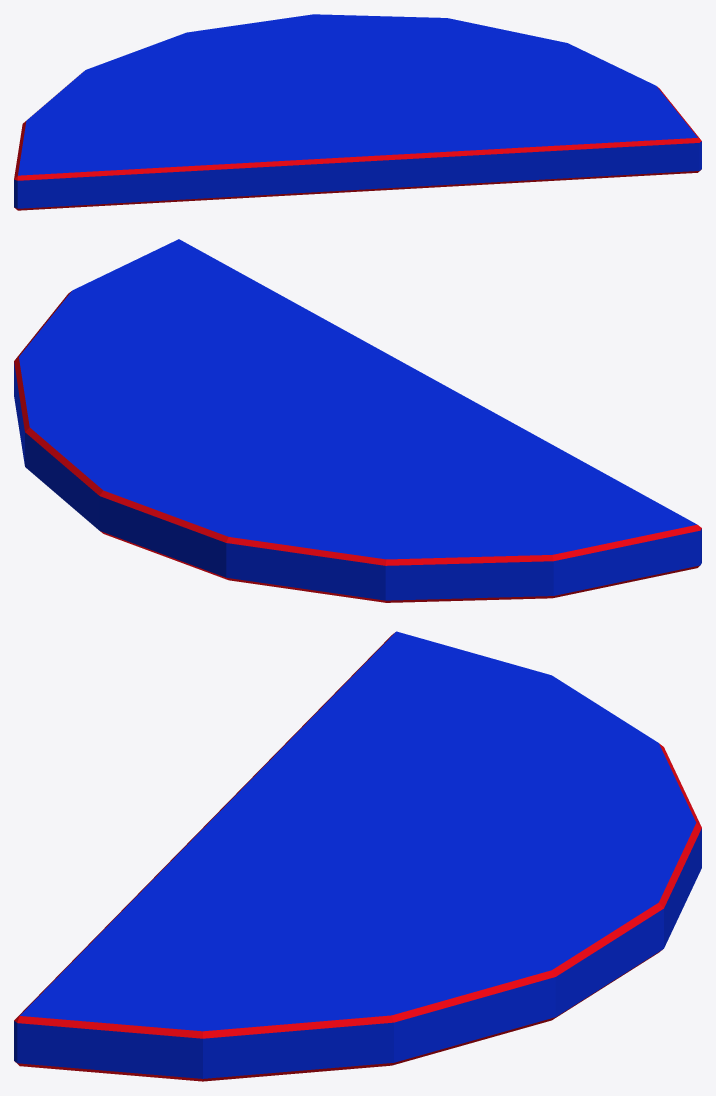
File: L2_Large_PTube.fbx
The picture shows the model from 3 angles, top to bottom: view 1: azimuth 30°, elevation 25°; view 2: azimuth 150°, elevation 25°; view 3: azimuth 270°, elevation 25°; orthographic projection. The views are drawn at different scales.
Parts seen in each view (by area): view 1: L2_Large_PTube; view 2: L2_Large_PTube; view 3: L2_Large_PTube.
Part boxes in pixels (bbox=[...]): L2_Large_PTube: bbox=[14, 14, 701, 210]; L2_Large_PTube: bbox=[14, 239, 701, 602]; L2_Large_PTube: bbox=[14, 631, 701, 1081].
Bounding box in the file's own units: 846 × 49 × 608.
